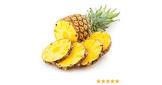Pineapple: (53, 6, 119, 44)
